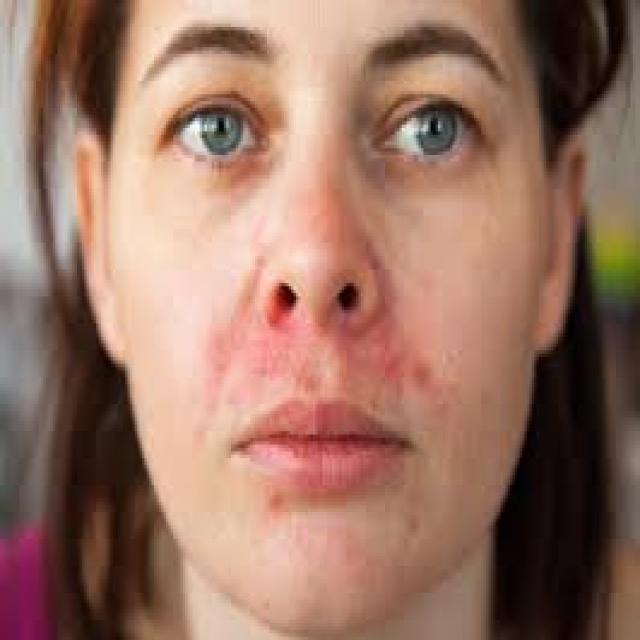Eczema: (187, 338, 444, 406)
